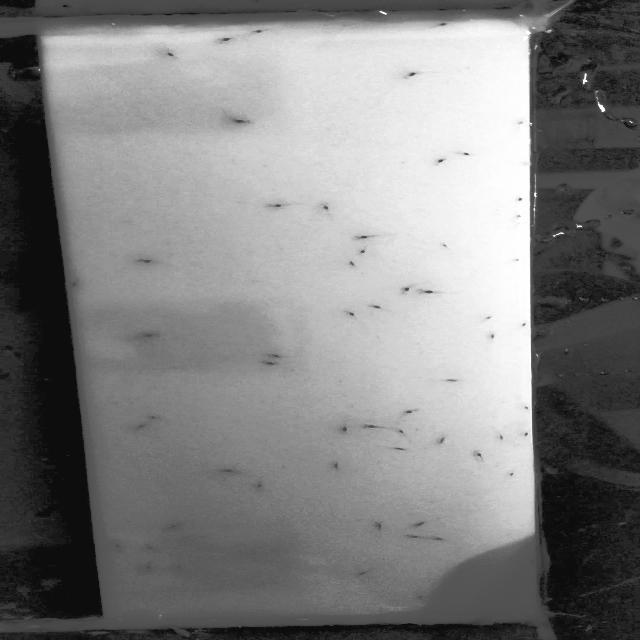shrimp: (256, 198, 306, 217), (387, 68, 430, 88), (310, 199, 348, 221), (224, 112, 264, 132), (451, 145, 488, 165), (417, 150, 449, 173), (148, 44, 186, 63), (239, 24, 277, 42), (206, 29, 239, 47), (338, 304, 370, 322), (421, 378, 477, 388), (128, 419, 158, 436), (423, 533, 459, 547), (255, 356, 284, 373), (434, 432, 463, 448), (258, 348, 290, 362), (66, 276, 92, 293), (428, 240, 457, 255), (397, 404, 428, 418), (107, 540, 137, 554), (481, 332, 515, 344), (339, 255, 368, 269), (350, 245, 381, 258), (136, 412, 176, 422), (389, 283, 417, 297), (168, 562, 198, 575), (504, 255, 531, 269), (506, 319, 535, 332), (321, 458, 350, 471), (408, 590, 433, 605), (139, 329, 163, 344), (364, 521, 394, 533), (420, 286, 441, 303), (351, 231, 378, 244), (409, 516, 434, 530), (139, 542, 168, 554), (348, 566, 374, 579), (471, 312, 498, 324), (157, 522, 189, 532), (338, 421, 358, 436), (137, 561, 162, 572), (137, 254, 158, 267), (217, 466, 244, 476), (254, 477, 274, 490), (388, 444, 411, 455), (371, 301, 389, 314), (390, 428, 416, 437), (402, 531, 420, 544), (366, 421, 384, 432), (472, 449, 486, 460), (504, 468, 518, 479), (521, 430, 532, 440), (520, 403, 532, 412), (495, 433, 505, 442)
